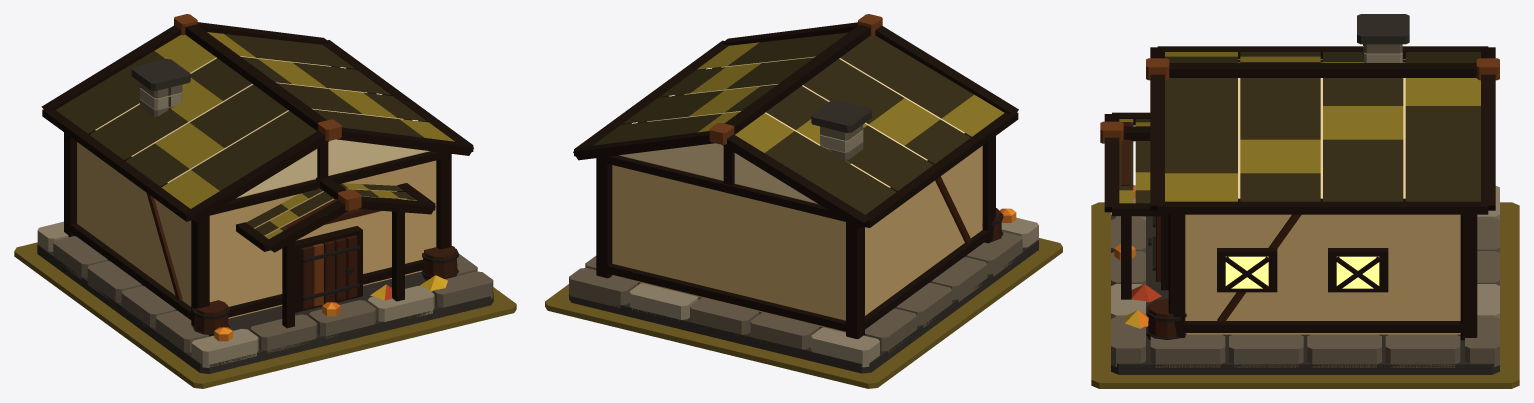
Rendered from longhouse_t5.glb.
3 renders of one model, left to right at view 1: azimuth 30°, elevation 25°; view 2: azimuth 150°, elevation 25°; view 3: azimuth 270°, elevation 25°, orthographic. The views are drawn at different scales.
Parts seen in each view (by area): view 1: MMR | longhouse | T05 Architecture.001, MMR | longhouse | Tier 05 Ground.001, MMR | longhouse | T05 Autumn Dressing.001; view 2: MMR | longhouse | T05 Architecture.001, MMR | longhouse | Tier 05 Ground.001; view 3: MMR | longhouse | T05 Architecture.001, MMR | longhouse | Tier 05 Ground.001, MMR | longhouse | T05 Autumn Dressing.001.
Boxes of the visible parts, <box> form: MMR | longhouse | T05 Architecture.001: <box>37,14,493,373</box>; MMR | longhouse | Tier 05 Ground.001: <box>14,242,516,388</box>; MMR | longhouse | T05 Autumn Dressing.001: <box>214,275,447,341</box>; MMR | longhouse | T05 Architecture.001: <box>569,14,1038,373</box>; MMR | longhouse | Tier 05 Ground.001: <box>545,238,1062,388</box>; MMR | longhouse | T05 Architecture.001: <box>1100,14,1499,374</box>; MMR | longhouse | Tier 05 Ground.001: <box>1091,202,1519,388</box>; MMR | longhouse | T05 Autumn Dressing.001: <box>1114,185,1161,328</box>.
Size of the model in its own units: 3.3 by 2.01 by 3.3.
2 materials, 1 textured.
